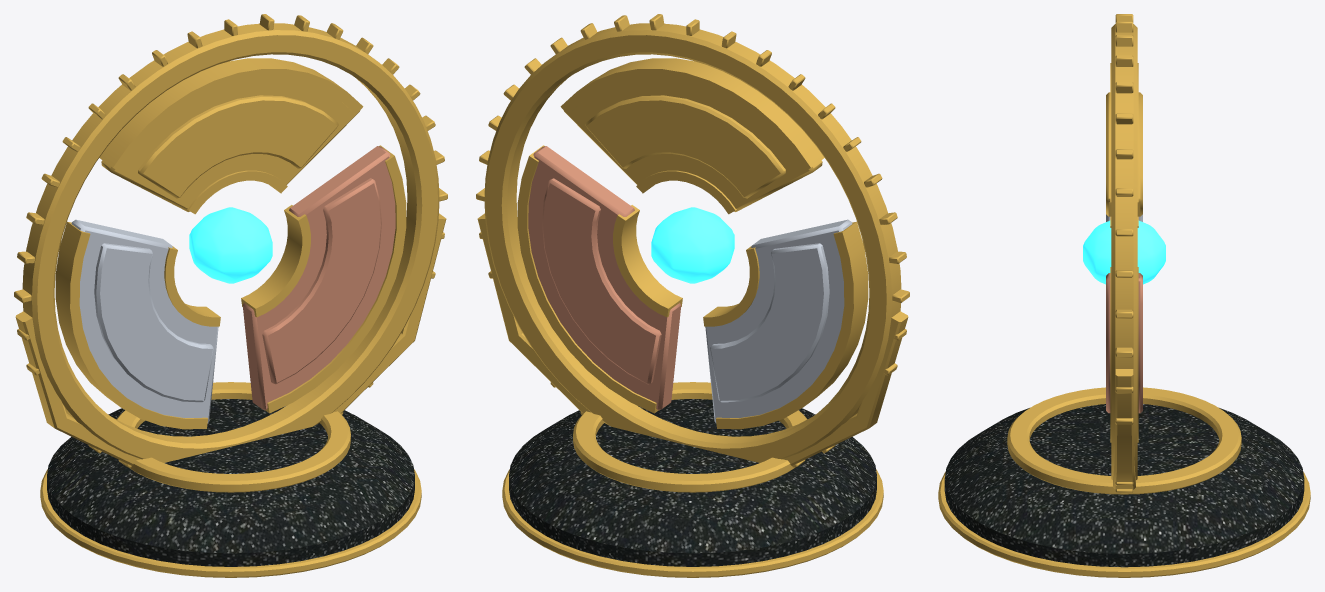
The model's file is relic_singapore_seal.glb.
3 views of the same model, side by side, from view 1: azimuth 30°, elevation 25°; view 2: azimuth 150°, elevation 25°; view 3: azimuth 270°, elevation 25° (orthographic). The views are drawn at different scales.
Visible parts, largest first — view 1: Seal_Containment_Brass, Seal_Pedestal_Marble, Seal_Segment_Agora_Mesh, Seal_Segment_Horizon_Mesh, Seal_Segment_Sovereign_Mesh, Seal_Pedestal_Gold, Seal_Segment_Sovereign_Filigree, Seal_Segment_Horizon_Filigree, Seal_Segment_Agora_Filigree, Seal_Core_Mesh; view 2: Seal_Containment_Brass, Seal_Pedestal_Marble, Seal_Segment_Agora_Mesh, Seal_Segment_Horizon_Mesh, Seal_Segment_Sovereign_Mesh, Seal_Pedestal_Gold, Seal_Segment_Sovereign_Filigree, Seal_Segment_Horizon_Filigree, Seal_Segment_Agora_Filigree, Seal_Core_Mesh; view 3: Seal_Pedestal_Marble, Seal_Pedestal_Gold, Seal_Containment_Brass, Seal_Core_Mesh, Seal_Segment_Agora_Mesh, Seal_Segment_Sovereign_Mesh, Seal_Segment_Agora_Filigree, Seal_Segment_Sovereign_Filigree.
Boxes of the visible parts, left/top/right/bottom form: Seal_Containment_Brass: left=14, top=14, right=447, bottom=467; Seal_Pedestal_Marble: left=47, top=399, right=414, bottom=566; Seal_Segment_Agora_Mesh: left=242, top=146, right=395, bottom=410; Seal_Segment_Horizon_Mesh: left=71, top=219, right=218, bottom=422; Seal_Segment_Sovereign_Mesh: left=101, top=79, right=360, bottom=211; Seal_Pedestal_Gold: left=15, top=213, right=446, bottom=577; Seal_Segment_Sovereign_Filigree: left=99, top=58, right=363, bottom=214; Seal_Segment_Horizon_Filigree: left=55, top=221, right=220, bottom=429; Seal_Segment_Agora_Filigree: left=241, top=145, right=406, bottom=413; Seal_Core_Mesh: left=189, top=207, right=272, bottom=283; Seal_Containment_Brass: left=476, top=14, right=909, bottom=467; Seal_Pedestal_Marble: left=509, top=399, right=876, bottom=566; Seal_Segment_Agora_Mesh: left=528, top=146, right=681, bottom=410; Seal_Segment_Horizon_Mesh: left=705, top=219, right=852, bottom=422; Seal_Segment_Sovereign_Mesh: left=563, top=79, right=822, bottom=211; Seal_Pedestal_Gold: left=477, top=213, right=908, bottom=577; Seal_Segment_Sovereign_Filigree: left=560, top=58, right=824, bottom=214; Seal_Segment_Horizon_Filigree: left=703, top=221, right=868, bottom=429; Seal_Segment_Agora_Filigree: left=517, top=145, right=682, bottom=413; Seal_Core_Mesh: left=651, top=207, right=734, bottom=283; Seal_Pedestal_Marble: left=944, top=404, right=1304, bottom=567; Seal_Pedestal_Gold: left=938, top=369, right=1310, bottom=577; Seal_Containment_Brass: left=1111, top=14, right=1137, bottom=492; Seal_Core_Mesh: left=1083, top=220, right=1165, bottom=284; Seal_Segment_Agora_Mesh: left=1106, top=273, right=1142, bottom=413; Seal_Segment_Sovereign_Mesh: left=1106, top=92, right=1142, bottom=216; Seal_Segment_Agora_Filigree: left=1110, top=267, right=1138, bottom=442; Seal_Segment_Sovereign_Filigree: left=1110, top=63, right=1138, bottom=227.
Bounding box in the file's own units: 0.882 × 0.941 × 0.684.
8 materials, 1 textured.
